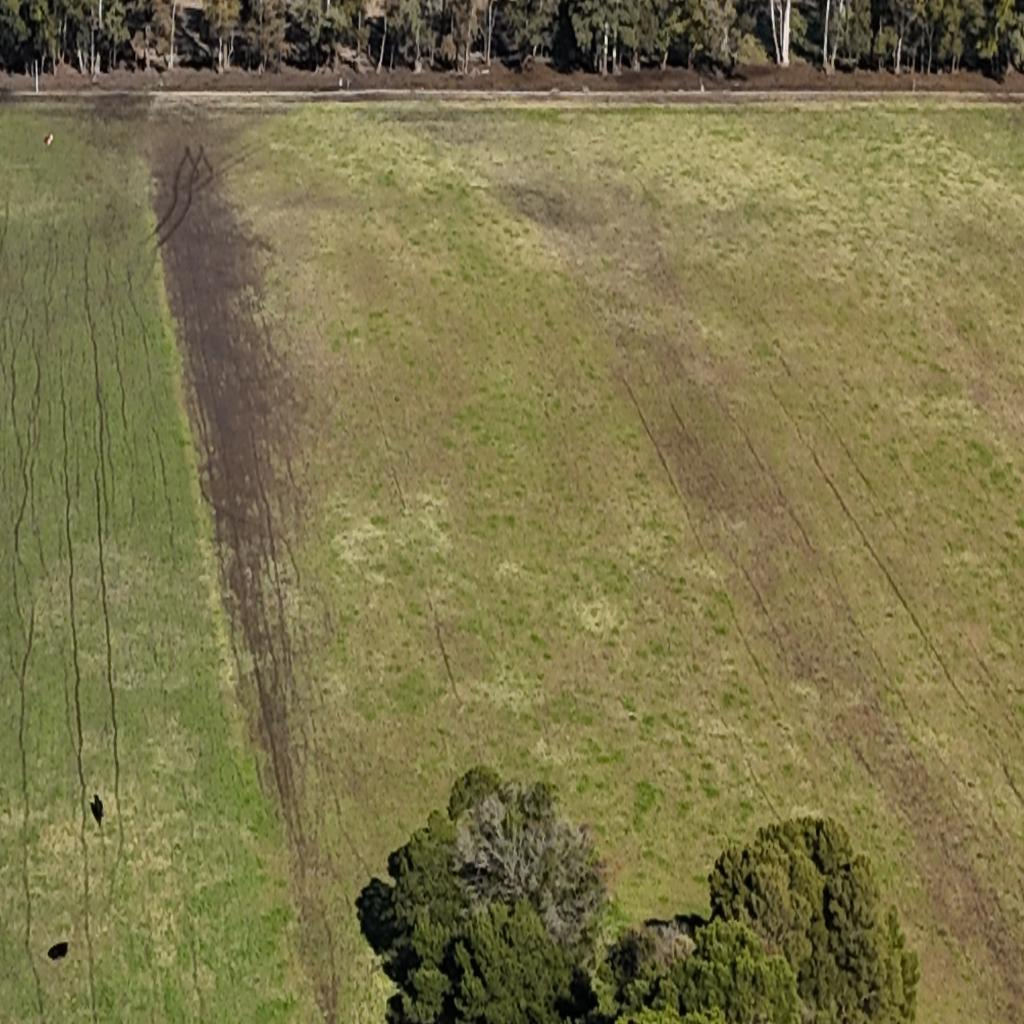cow: (92, 792, 104, 826), (48, 942, 68, 961), (44, 133, 54, 146)
